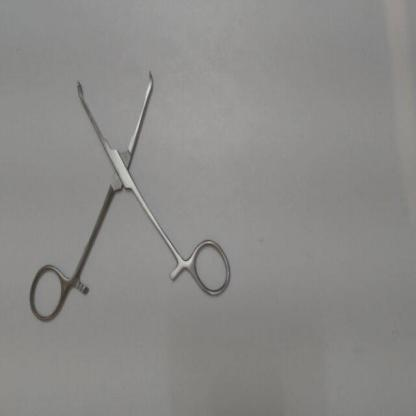Allis Tissue Forceps: (21, 60, 238, 331)
